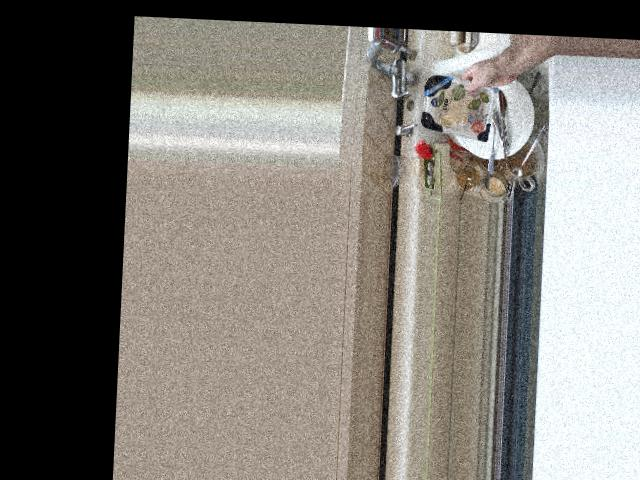cheese: (415, 55, 510, 140)
